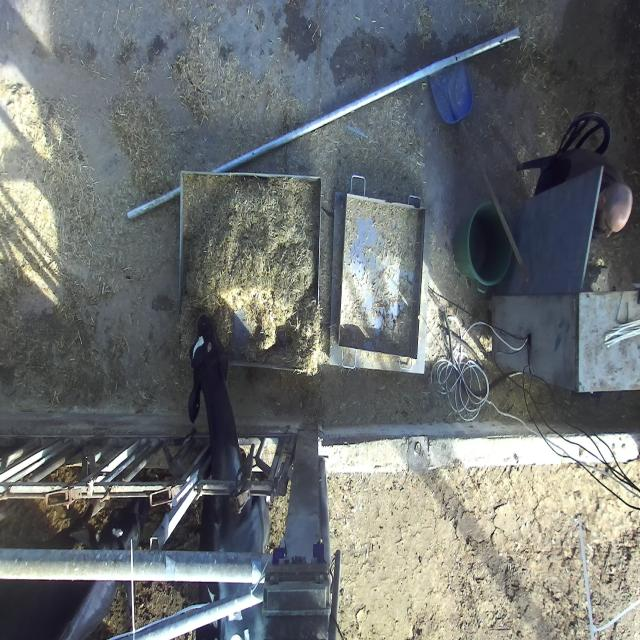cow: (188, 319, 231, 430)
